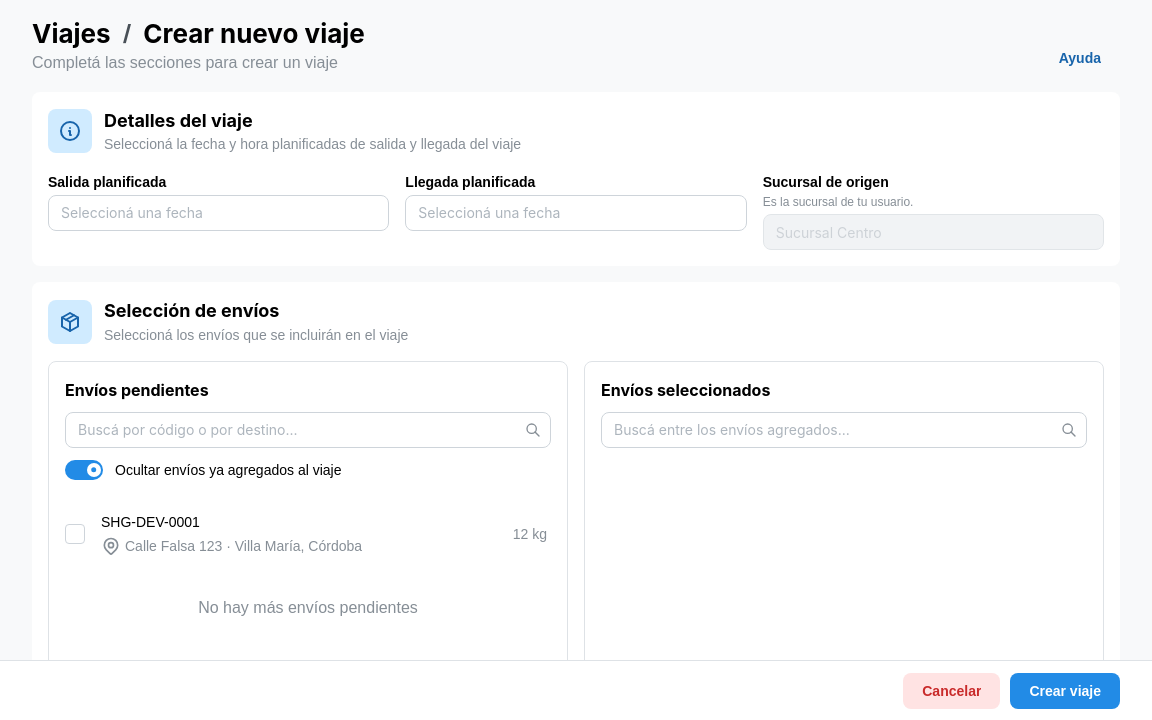
Scenario: CrearViaje › no postea si faltan datos obligatorios (fechas, vehículo, chofer)
The width and height of the screenshot is (1152, 720).
Click the button "Crear viaje".
click(1065, 690)  # box [1010,672,1120,708]
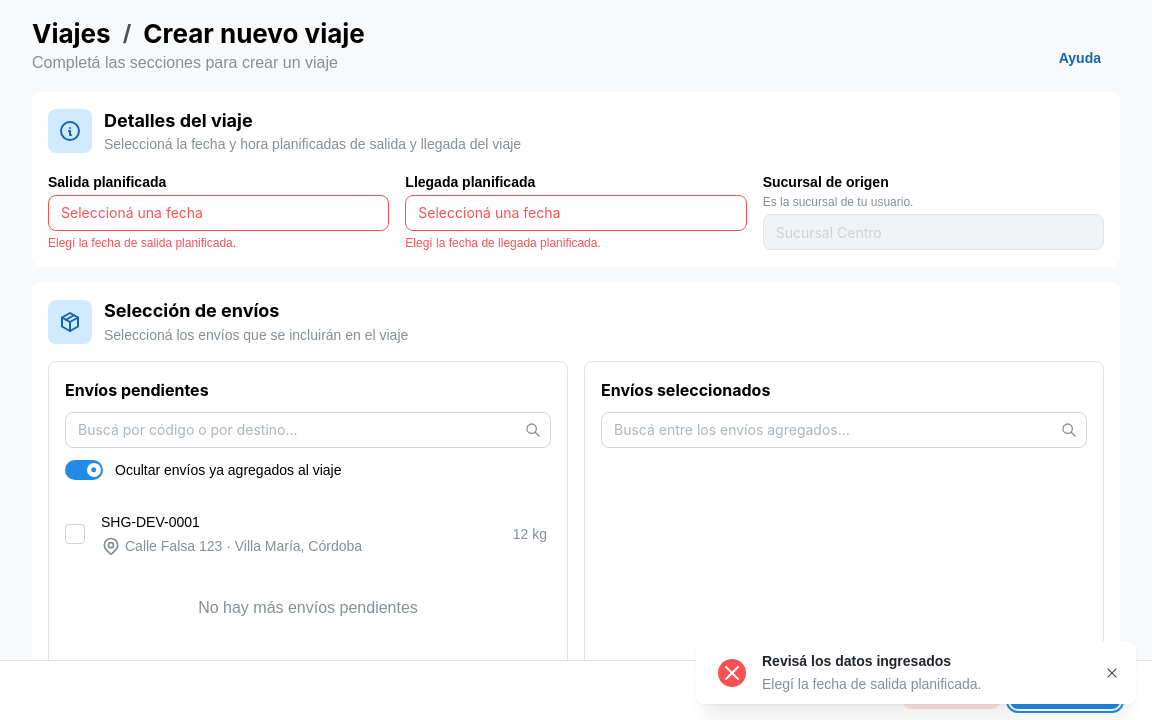
Expected: the text "Elegí la fecha de salida planificada." next to "Elegí la fecha de llegada planificada." is shown, [48,236,236,250]
